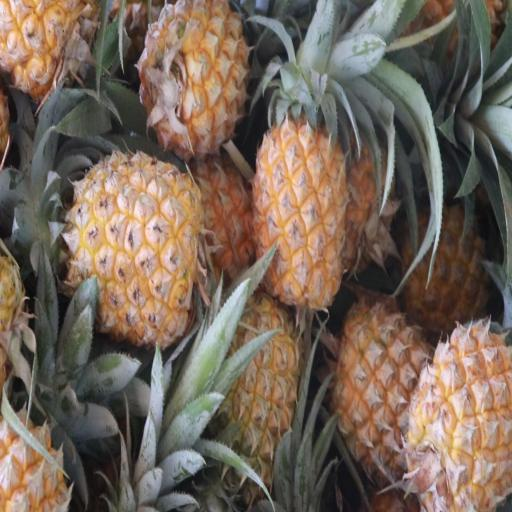------------------------------: (330, 307, 431, 483)
Pineapple - v8 v1: (69, 149, 197, 338), (408, 326, 512, 507), (252, 107, 348, 303), (141, 0, 246, 152), (215, 300, 300, 472), (405, 202, 491, 322), (0, 0, 102, 92)
